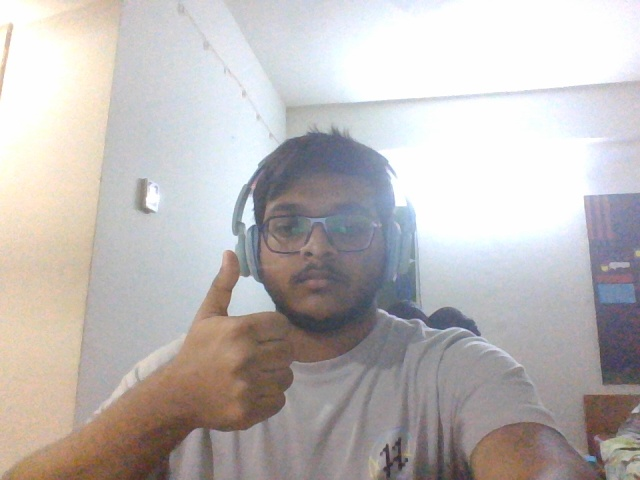ThumbsUp: (177, 250, 295, 436)
